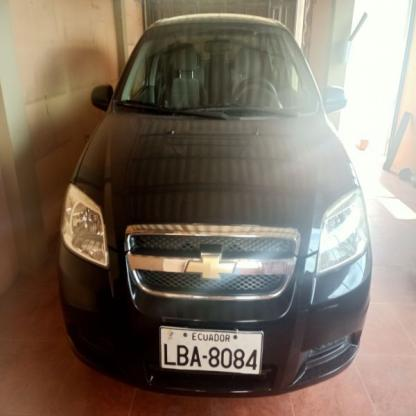Placa: (157, 324, 265, 376)
